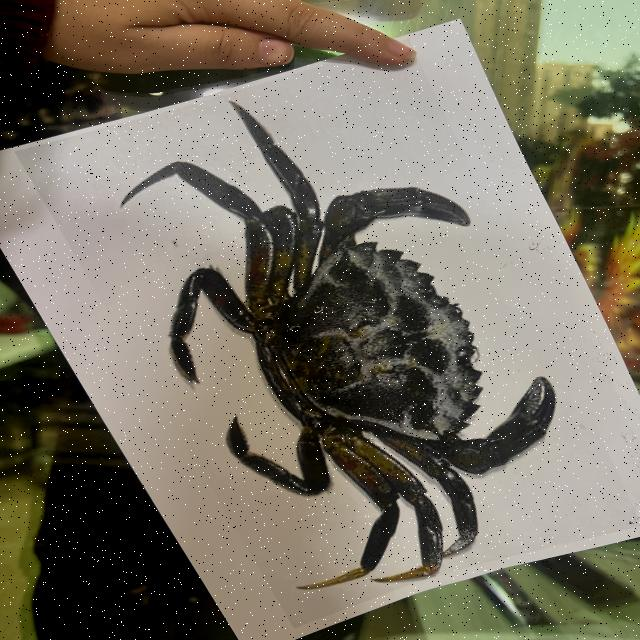European_Green_Crab: (58, 55, 632, 614)
